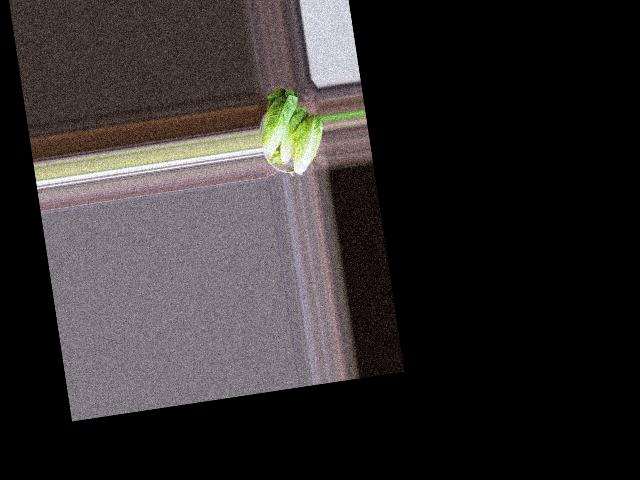lettuce: (254, 87, 308, 164)
